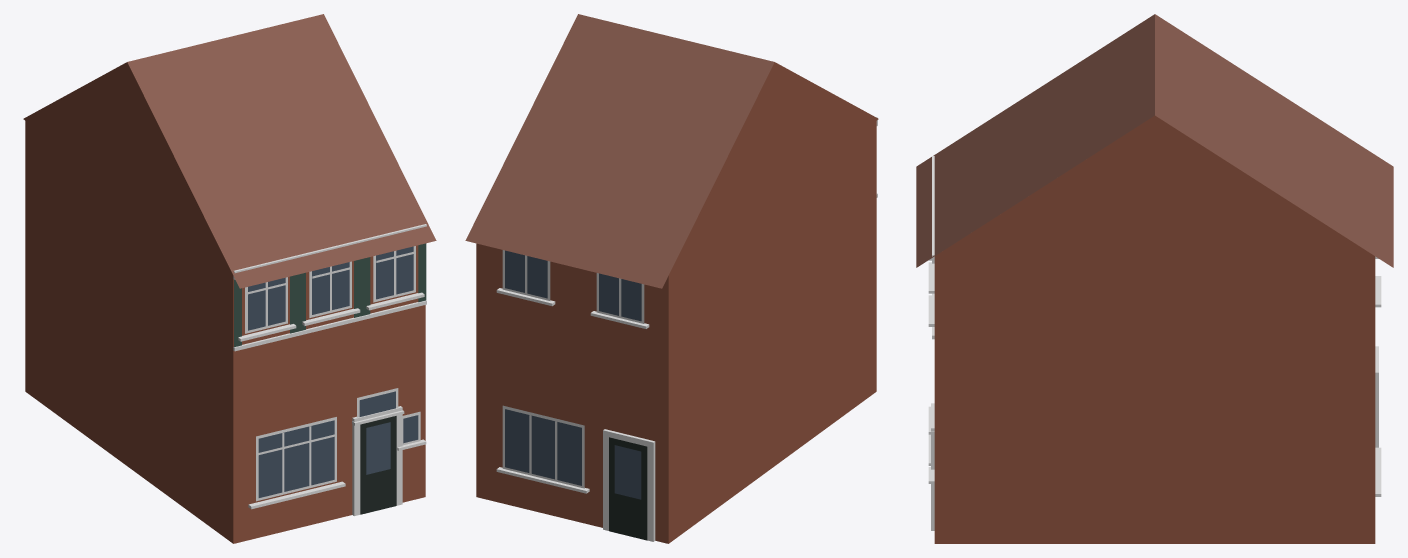
File: nn-board__green-toilet__2__gable__long__solid__mirror.glb
3 renders of one model, left to right at view 1: azimuth 30°, elevation 25°; view 2: azimuth 150°, elevation 25°; view 3: azimuth 270°, elevation 25°, orthographic. The views are drawn at different scales.
Parts seen in each view (by area): view 1: nn-board__green-toilet__2__gable__long__solid__mirror; view 2: nn-board__green-toilet__2__gable__long__solid__mirror; view 3: nn-board__green-toilet__2__gable__long__solid__mirror.
Part boxes in pixels (x1=…): nn-board__green-toilet__2__gable__long__solid__mirror: x1=23, y1=14, x2=436, y2=543; nn-board__green-toilet__2__gable__long__solid__mirror: x1=465, y1=14, x2=878, y2=543; nn-board__green-toilet__2__gable__long__solid__mirror: x1=916, y1=14, x2=1393, y2=543.
Size of the model in its own units: 4.6 by 9.07 by 9.13.
